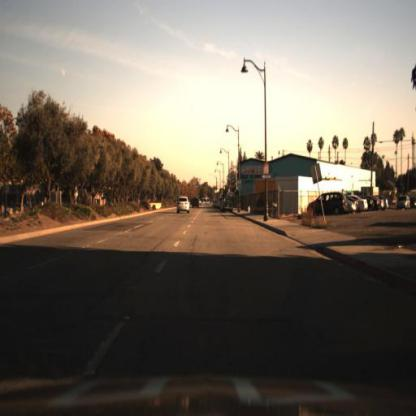car: (306, 191, 349, 218), (174, 191, 194, 217), (355, 194, 369, 216), (342, 196, 358, 214), (190, 192, 204, 211), (349, 194, 359, 218), (223, 198, 234, 215), (365, 195, 375, 212), (375, 196, 383, 213)
